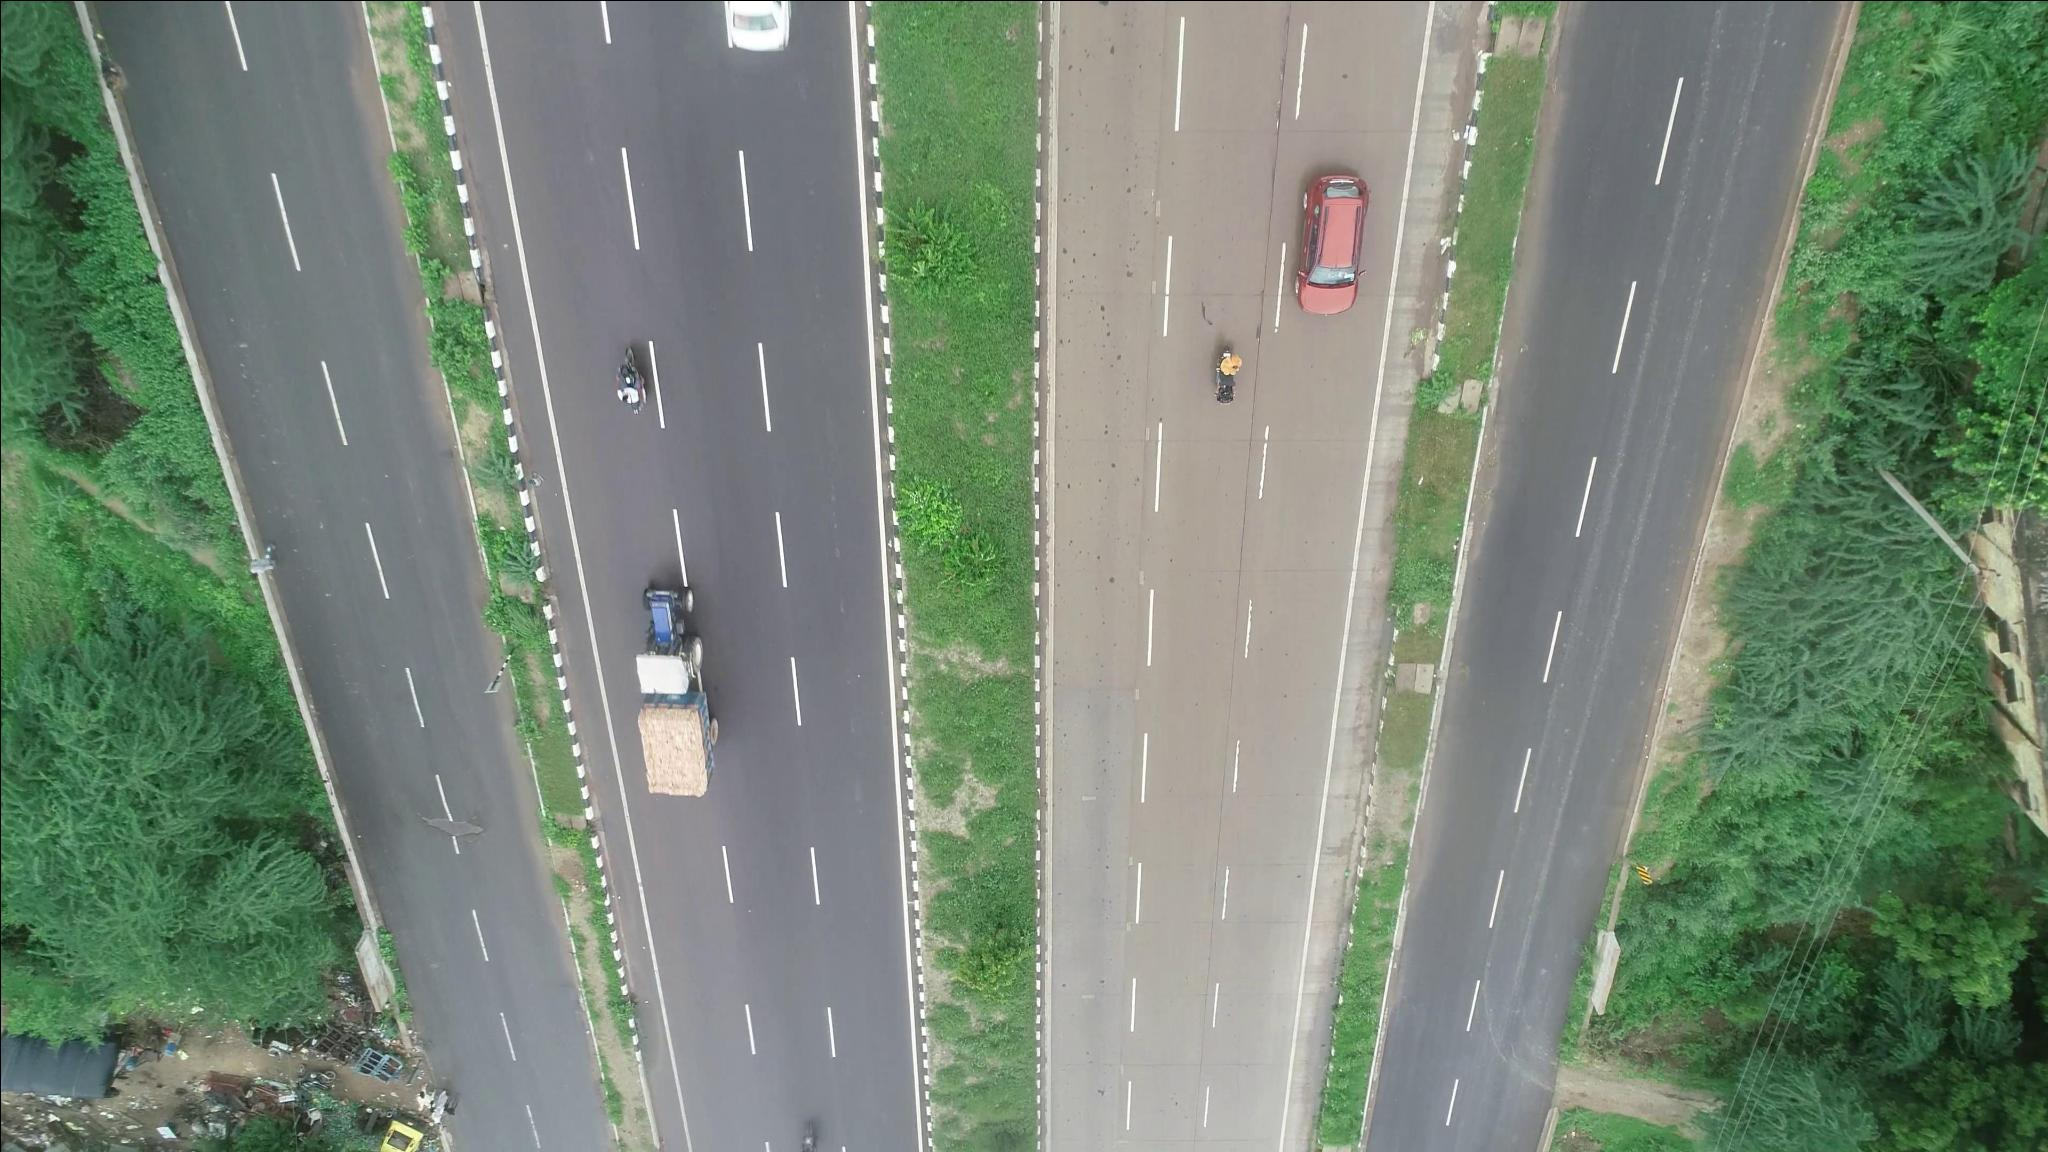Potholes: (416, 802, 509, 862)
